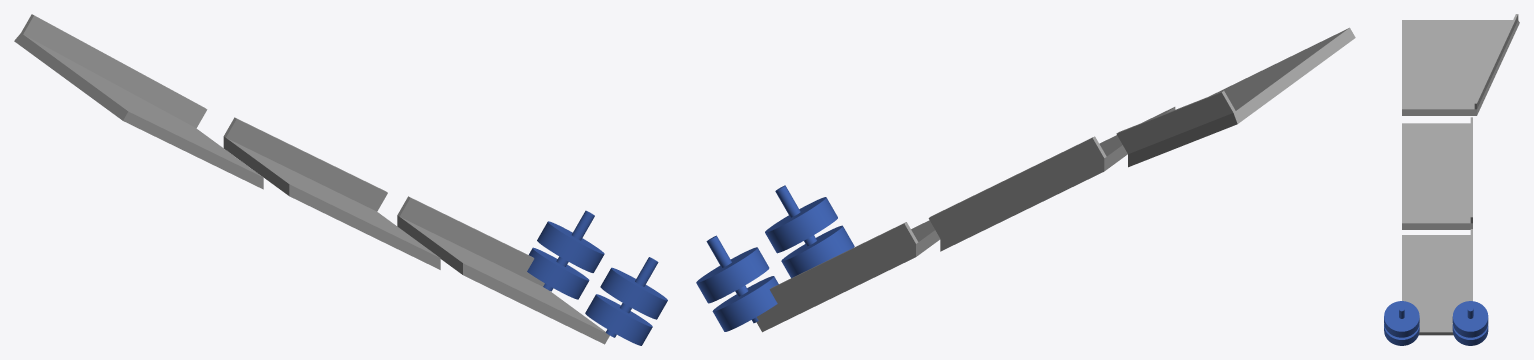
3 views of the same model, side by side, from view 1: azimuth 30°, elevation 25°; view 2: azimuth 150°, elevation 25°; view 3: azimuth 270°, elevation 25° (orthographic). The views are drawn at different scales.
Visible parts, largest first — view 1: Funnel, Part 4, outtake panel, Wheels (×2); view 2: Wheels (×2), Funnel, Part 4, outtake panel; view 3: Funnel, Part 4, outtake panel, Wheels (×2).
Boxes of the visible parts, x1,y1,x2,y2 form: Funnel: (14,14,263,189); Part 4: (223,117,440,269); outtake panel: (397,196,609,344); Wheels (×2): (527,210,667,345); Wheels (×2): (696,185,854,331); Funnel: (1116,27,1355,167); Part 4: (928,107,1175,251); outtake panel: (756,220,940,332); Funnel: (1402,14,1519,115); Part 4: (1402,117,1472,229); outtake panel: (1402,229,1472,335); Wheels (×2): (1384,301,1488,345).
Size of the model in its own units: 0.7247 by 0.4741 by 0.2913.
